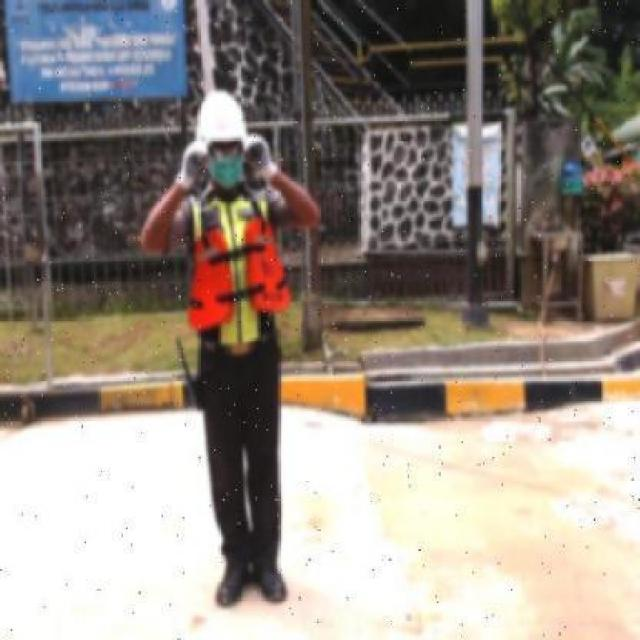Boots: (215, 540, 251, 608), (250, 542, 288, 603)
Gloves: (175, 139, 211, 192), (242, 134, 278, 181)
Helmet: (192, 88, 252, 147)
Mask: (206, 152, 248, 192)
Protective Glasses: (202, 137, 246, 165)
Vest: (185, 218, 293, 329)
